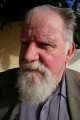male: (17, 13, 65, 95)
